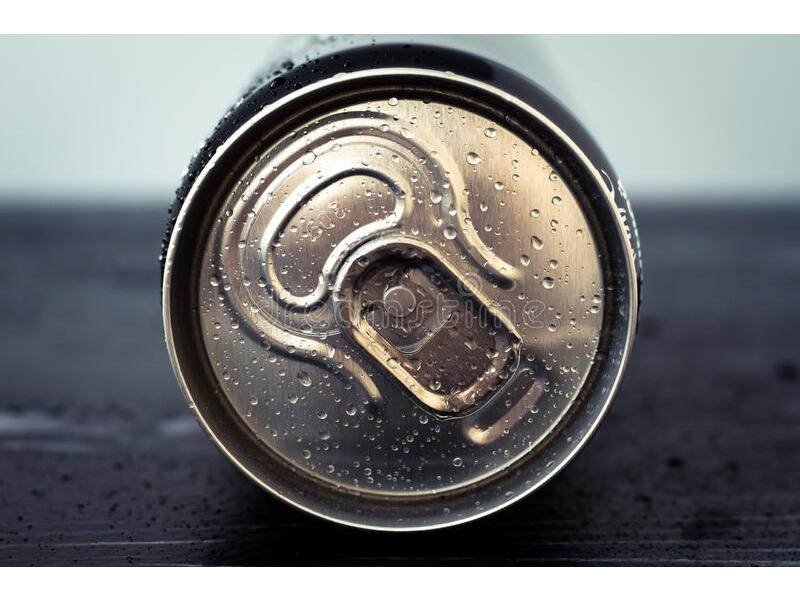can: (148, 35, 660, 558)
